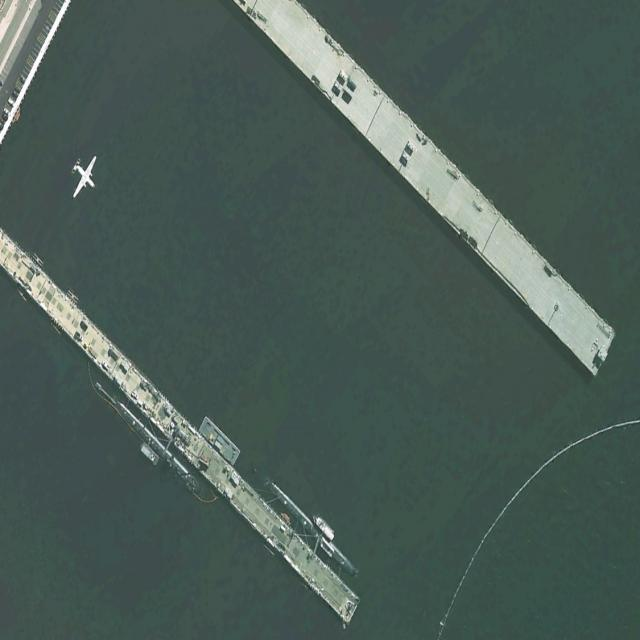Submarine: (263, 476, 358, 578), (113, 398, 204, 497)
